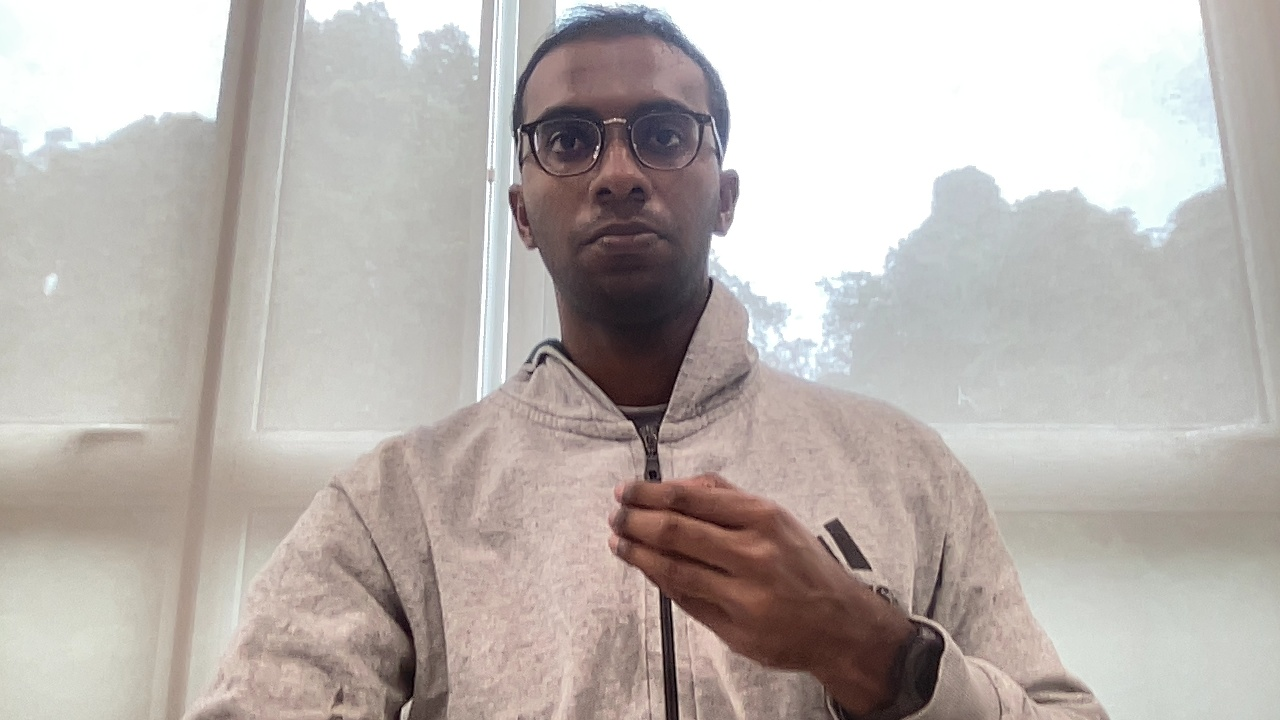drink: (604, 464, 867, 675)
